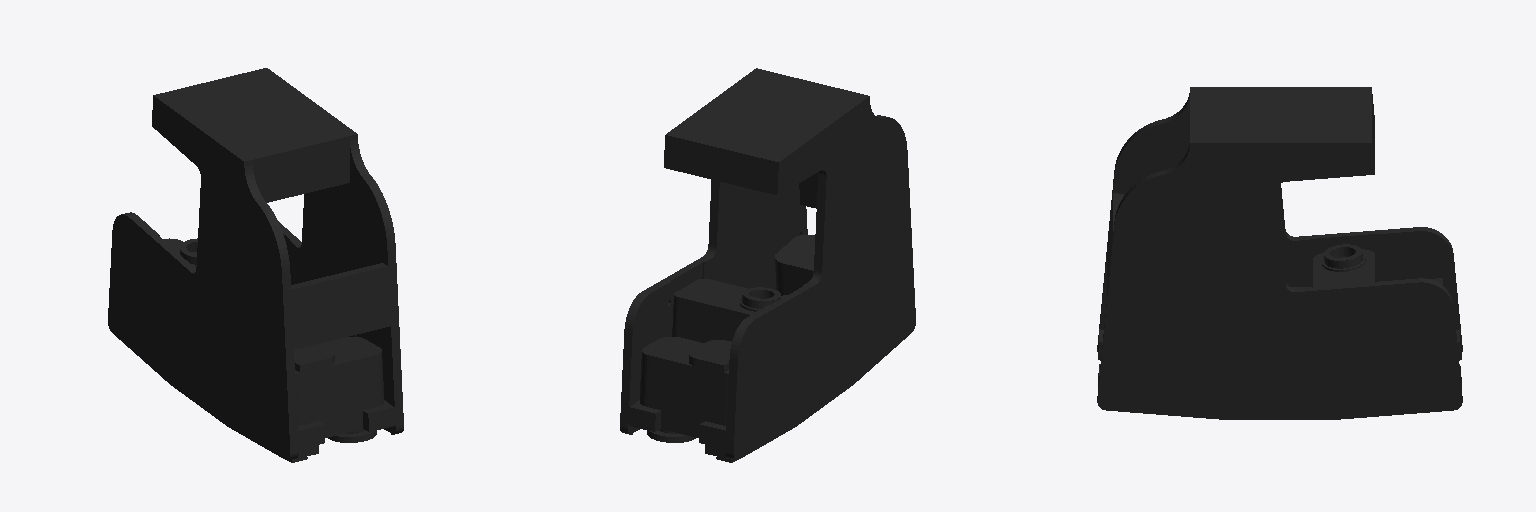
The model's file is base_link_left.obj.
The picture shows the model from 3 angles: view 1: azimuth 30°, elevation 25°; view 2: azimuth 150°, elevation 25°; view 3: azimuth 270°, elevation 25°; orthographic projection.
Visible parts, largest first — view 1: base_link_left; view 2: base_link_left; view 3: base_link_left.
Part boxes in pixels (bbox=[...]): base_link_left: bbox=[108, 68, 403, 462]; base_link_left: bbox=[620, 68, 915, 462]; base_link_left: bbox=[1097, 87, 1462, 419].
Size of the model in its own units: 0.0408 by 0.0967 by 0.1135.